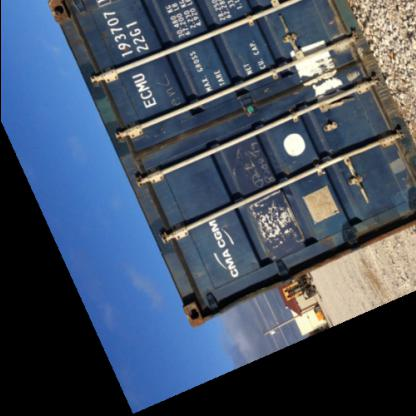Damage: (282, 36, 374, 106), (239, 193, 305, 253), (228, 142, 274, 192), (181, 293, 222, 325), (154, 72, 182, 112)
